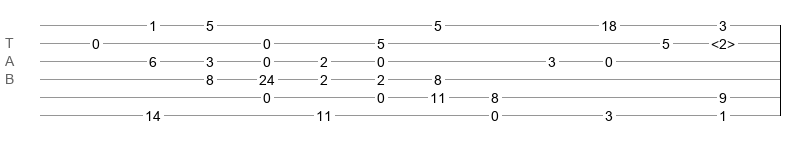0: (92, 36, 100, 46), (263, 54, 271, 64), (263, 36, 271, 46), (263, 90, 271, 100), (377, 90, 385, 100), (377, 54, 385, 64), (491, 108, 499, 118), (605, 54, 613, 64)
1: (149, 18, 157, 28), (719, 108, 727, 118)
11: (316, 108, 332, 118), (430, 90, 446, 100)
14: (145, 108, 161, 118)
18: (601, 18, 617, 28)
2: (320, 72, 328, 82), (320, 54, 328, 64), (377, 72, 385, 82)
24: (259, 72, 275, 82)
3: (206, 54, 214, 64), (548, 54, 556, 64), (605, 108, 613, 118), (719, 18, 727, 28)
5: (206, 18, 214, 28), (377, 36, 385, 46), (434, 18, 442, 28), (662, 36, 670, 46)
6: (149, 54, 157, 64)
8: (206, 72, 214, 82), (434, 72, 442, 82), (491, 90, 499, 100)
9: (719, 90, 727, 100)
harmonic: (711, 36, 735, 46)
